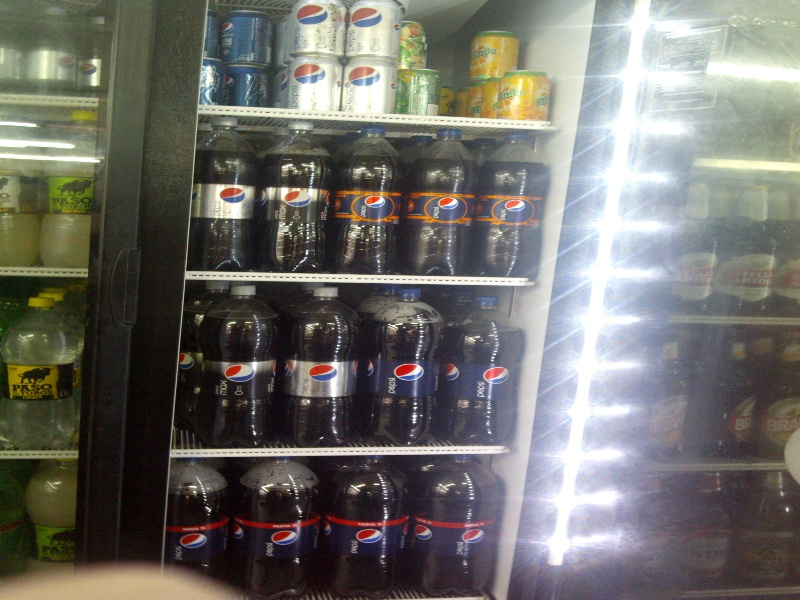lemonade: (273, 288, 358, 446), (196, 287, 278, 448), (438, 294, 523, 445), (414, 452, 500, 595), (398, 128, 480, 276), (365, 289, 441, 448), (187, 117, 264, 273), (474, 134, 551, 277), (262, 121, 333, 276), (327, 458, 408, 593), (330, 124, 401, 275)
